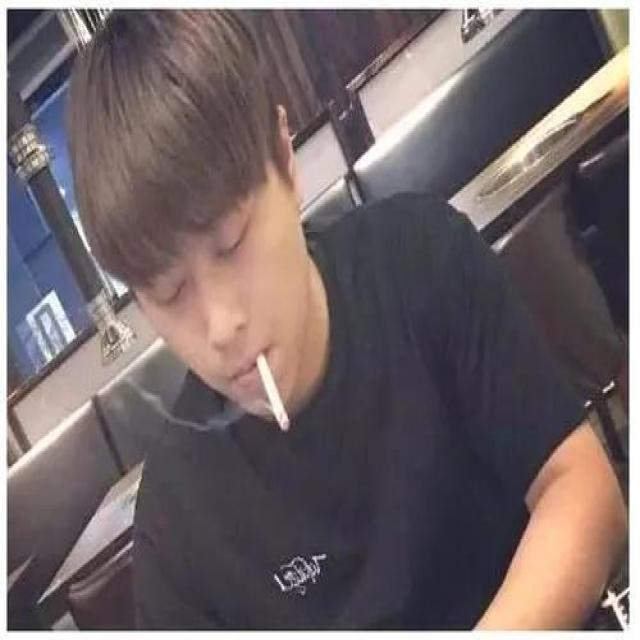cigarette: (230, 322, 306, 458)
